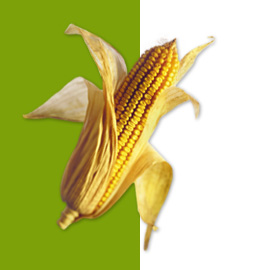corn: (23, 23, 216, 250)
